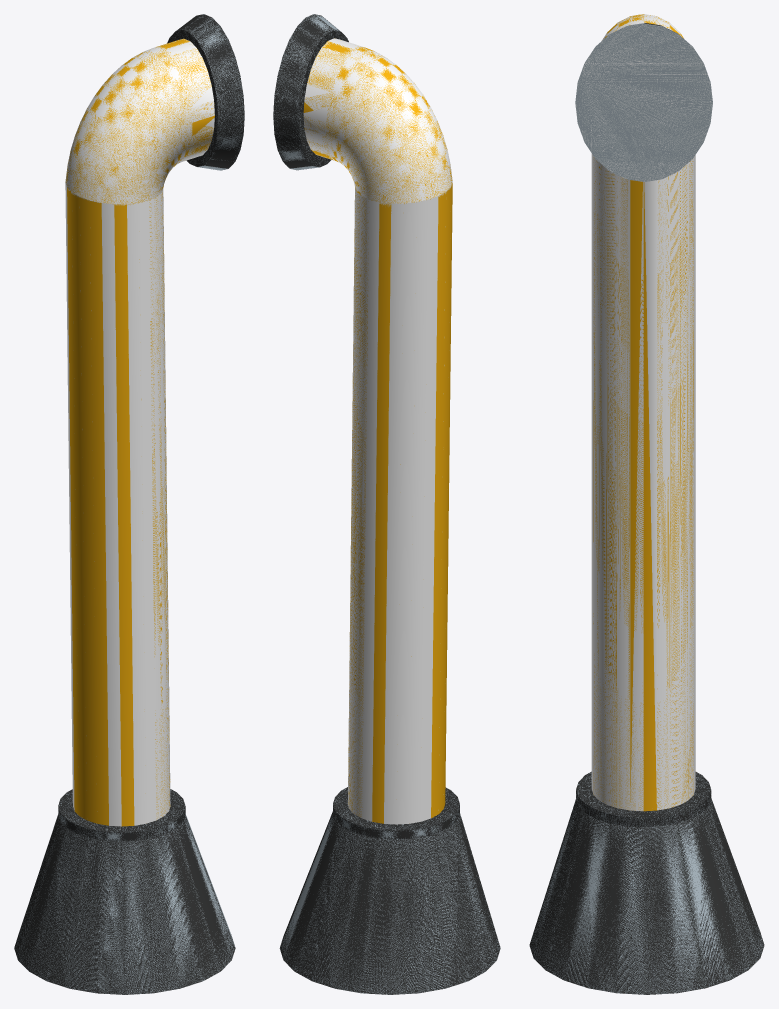
Rendered from boru_1.fbx.
3 renders of one model, left to right at view 1: azimuth 30°, elevation 25°; view 2: azimuth 150°, elevation 25°; view 3: azimuth 270°, elevation 25°, orthographic. The views are drawn at different scales.
Visible parts, largest first — view 1: Group1; view 2: Group1; view 3: Group1.
Part boxes in pixels (box(x1,y1,x2,y2)): Group1: box(14, 14, 244, 994); Group1: box(273, 14, 500, 994); Group1: box(529, 14, 764, 994).
Size of the model in its own units: 49.39 by 224 by 49.39.
